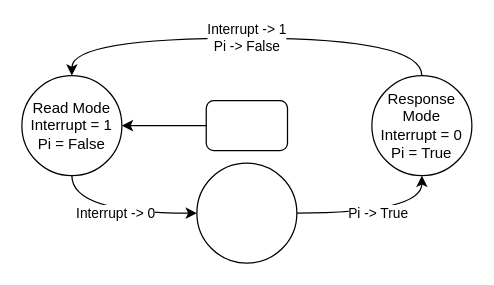
This 494x285 diagram has some shape labels left out. Here are the shapes that lost their labels. From the top down, the centre of each, then its label:
[246,125]: Initial State
[246,212]: Buffer Copy Interrupt = 0 Pi = False
